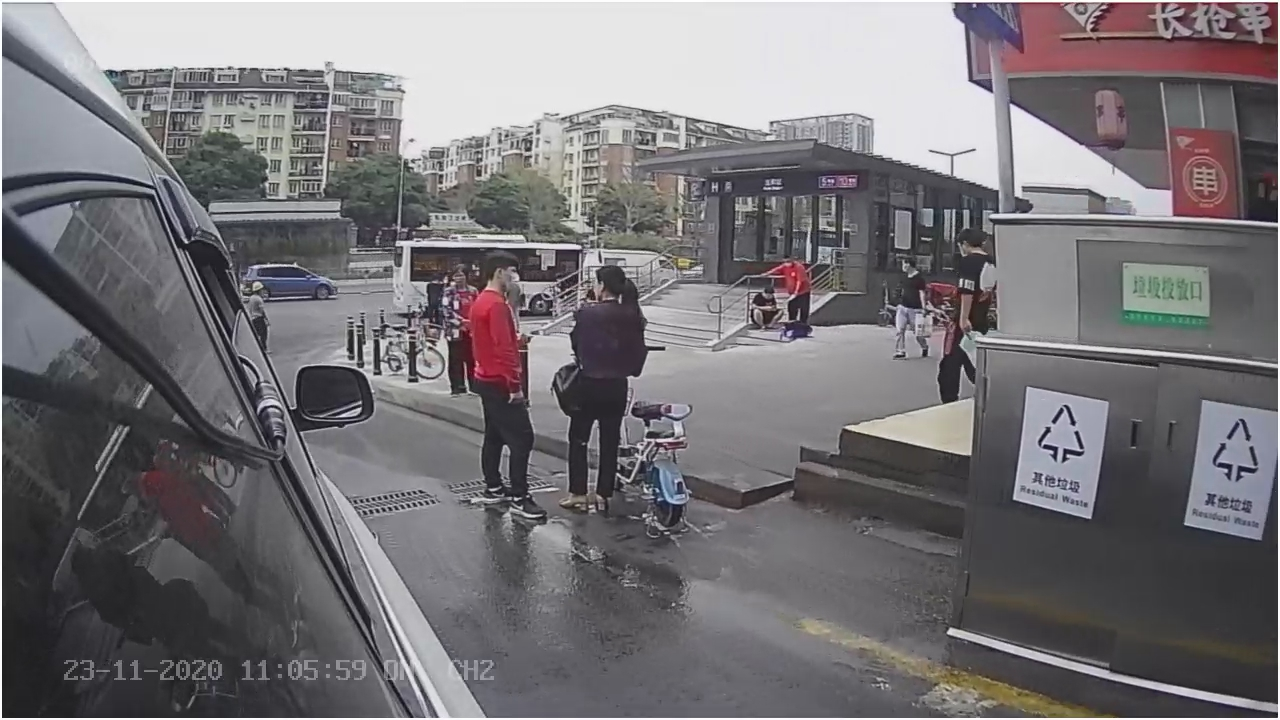person: (461, 251, 546, 524)
